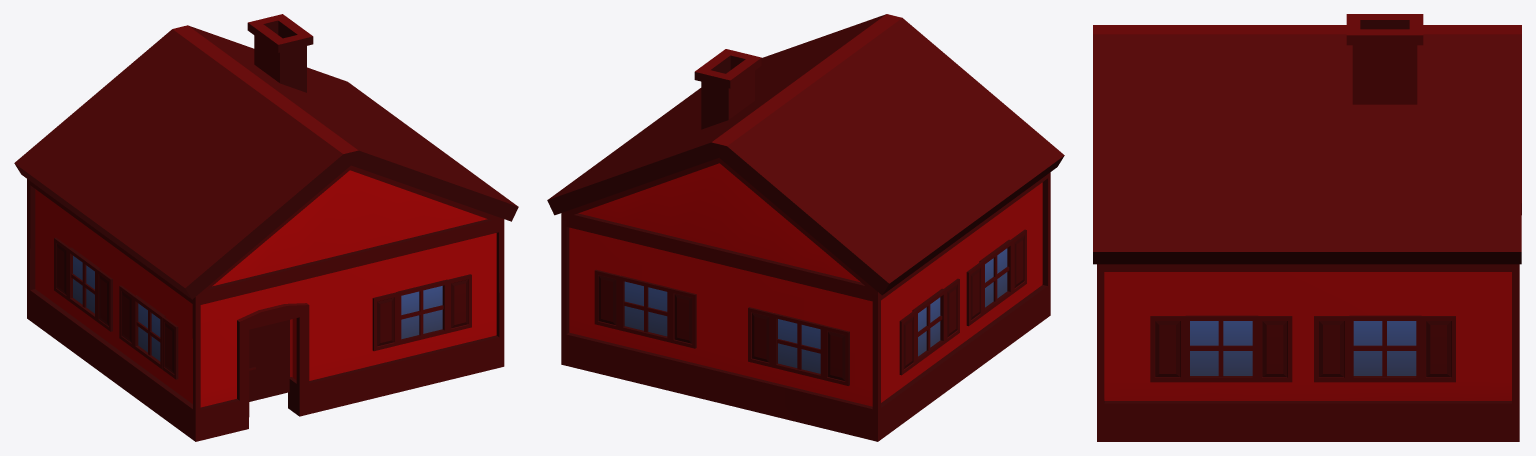
File: buildings-residential-oldcottage_v3.fbx
3 views of the same model, side by side, from view 1: azimuth 30°, elevation 25°; view 2: azimuth 150°, elevation 25°; view 3: azimuth 270°, elevation 25° (orthographic). The views are drawn at different scales.
Visible parts, largest first — view 1: OldCottage_v3_base, OldCottage_v3_windowRefl; view 2: OldCottage_v3_base, OldCottage_v3_windowRefl; view 3: OldCottage_v3_base, OldCottage_v3_windowRefl.
Boxes of the visible parts, <box> form: OldCottage_v3_base: <box>14,14,518,441</box>; OldCottage_v3_windowRefl: <box>73,256,442,361</box>; OldCottage_v3_base: <box>547,14,1064,441</box>; OldCottage_v3_windowRefl: <box>624,248,1007,373</box>; OldCottage_v3_base: <box>1093,14,1521,441</box>; OldCottage_v3_windowRefl: <box>1190,321,1416,375</box>.
Bounding box in the file's own units: 9.71 × 7.79 × 8.63.
